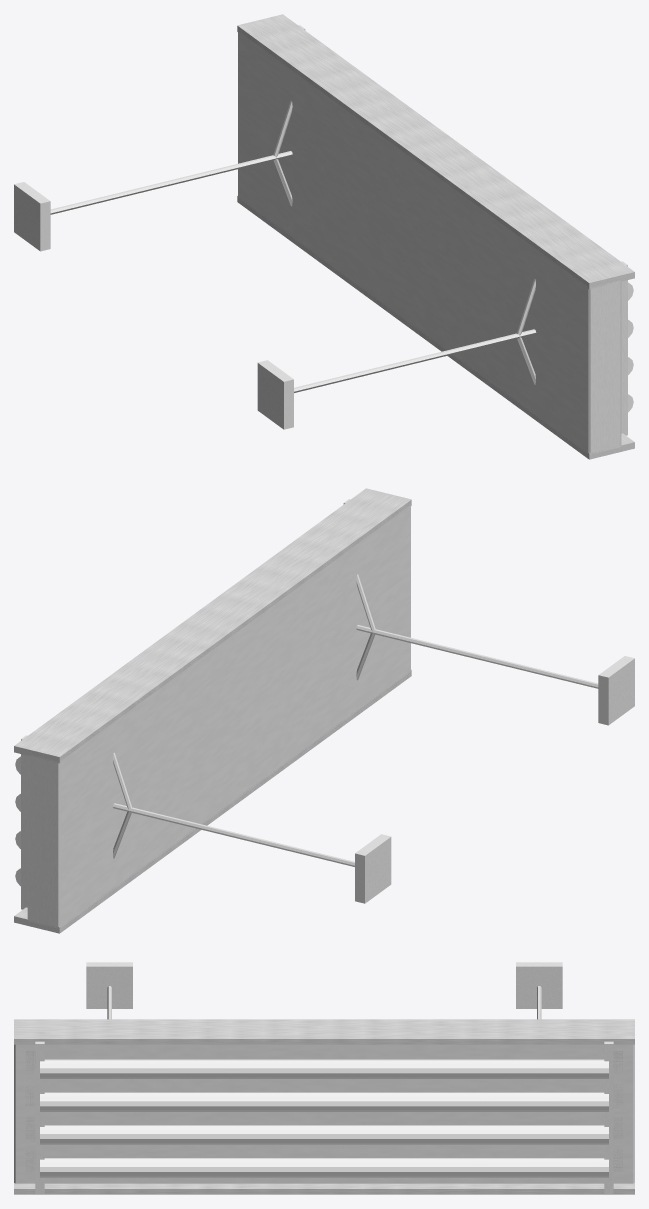
File: hangingfactorylight.obj
3 renders of one model, top to bottom at view 1: azimuth 30°, elevation 25°; view 2: azimuth 150°, elevation 25°; view 3: azimuth 270°, elevation 25°, orthographic. The views are drawn at different scales.
Parts seen in each view (by area): view 1: Metal, Trim, Base; view 2: Metal, Trim, Base; view 3: Metal, Trim, Light0, Light1, Light2, Light3, Base.
Boxes of the visible parts, x1,y1,x2,y2 form: Metal: (50, 25, 627, 454); Trim: (237, 14, 634, 459); Base: (14, 182, 293, 429); Metal: (21, 499, 598, 928); Trim: (14, 488, 411, 933); Base: (355, 656, 634, 903); Metal: (14, 986, 634, 1193); Trim: (14, 1019, 634, 1194); Light0: (40, 1158, 608, 1177); Light1: (40, 1125, 608, 1144); Light2: (40, 1092, 608, 1111); Light3: (40, 1059, 608, 1078); Base: (86, 962, 562, 1008).
Size of the model in its own units: 1.27 by 0.664 by 2.4.
